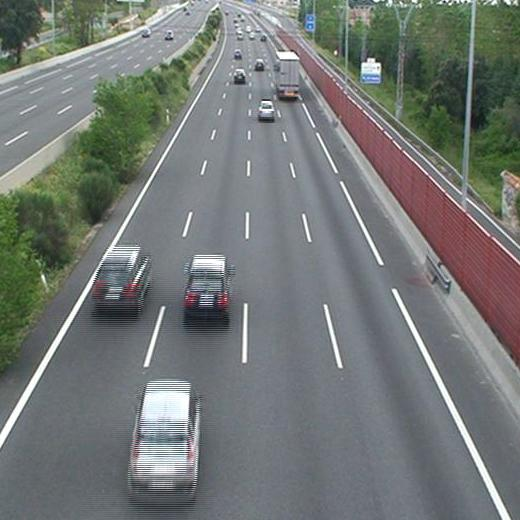car: (129, 381, 199, 497), (95, 248, 150, 306), (185, 256, 229, 316), (258, 100, 275, 119), (234, 69, 245, 82), (254, 59, 264, 70), (233, 50, 242, 59)
truck: (274, 52, 299, 98)
